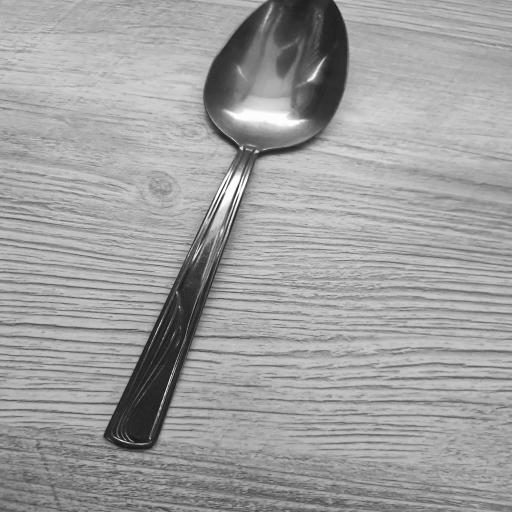spoon: (108, 0, 348, 449)
